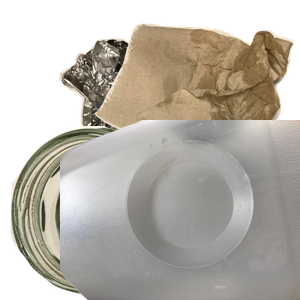glass: (10, 126, 220, 300)
metal: (57, 36, 241, 216)
plastic: (60, 120, 300, 300)
trash: (92, 21, 300, 201)
